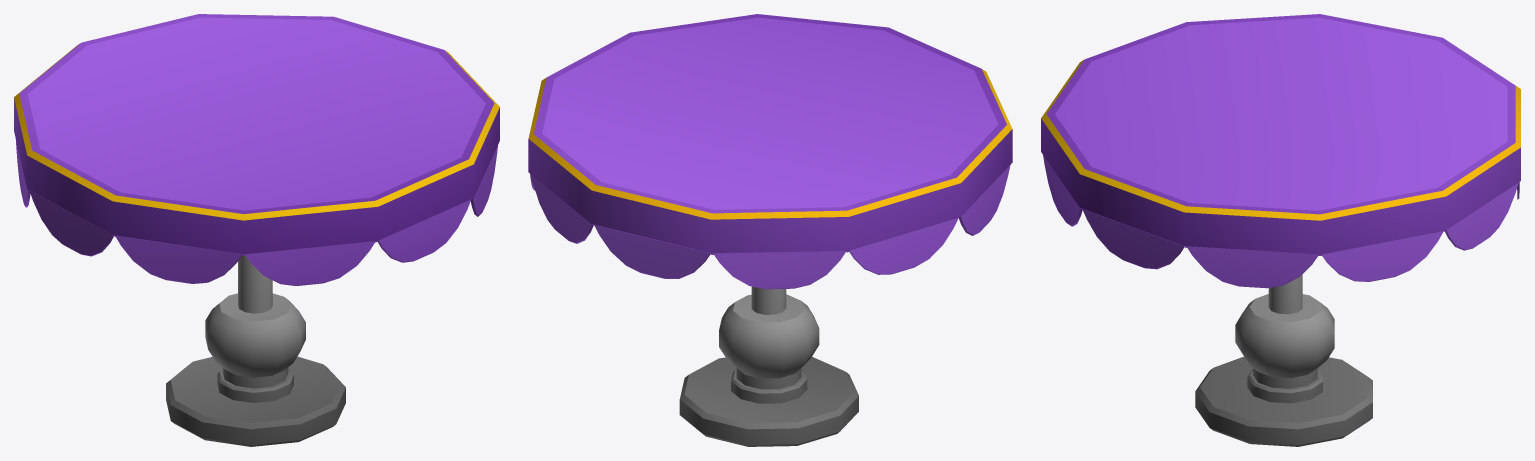
Rendered from Table_1.glb.
3 renders of one model, left to right at view 1: azimuth 30°, elevation 25°; view 2: azimuth 150°, elevation 25°; view 3: azimuth 270°, elevation 25°, orthographic.
Parts seen in each view (by area): view 1: Table_1; view 2: Table_1; view 3: Table_1.
Part boxes in pixels (left/top/right/bottom): Table_1: left=14, top=14, right=499, bottom=446; Table_1: left=528, top=14, right=1012, bottom=446; Table_1: left=1041, top=14, right=1520, bottom=446.
Size of the model in its own units: 1.33 by 0.8992 by 1.32.
1 material, 1 textured.
